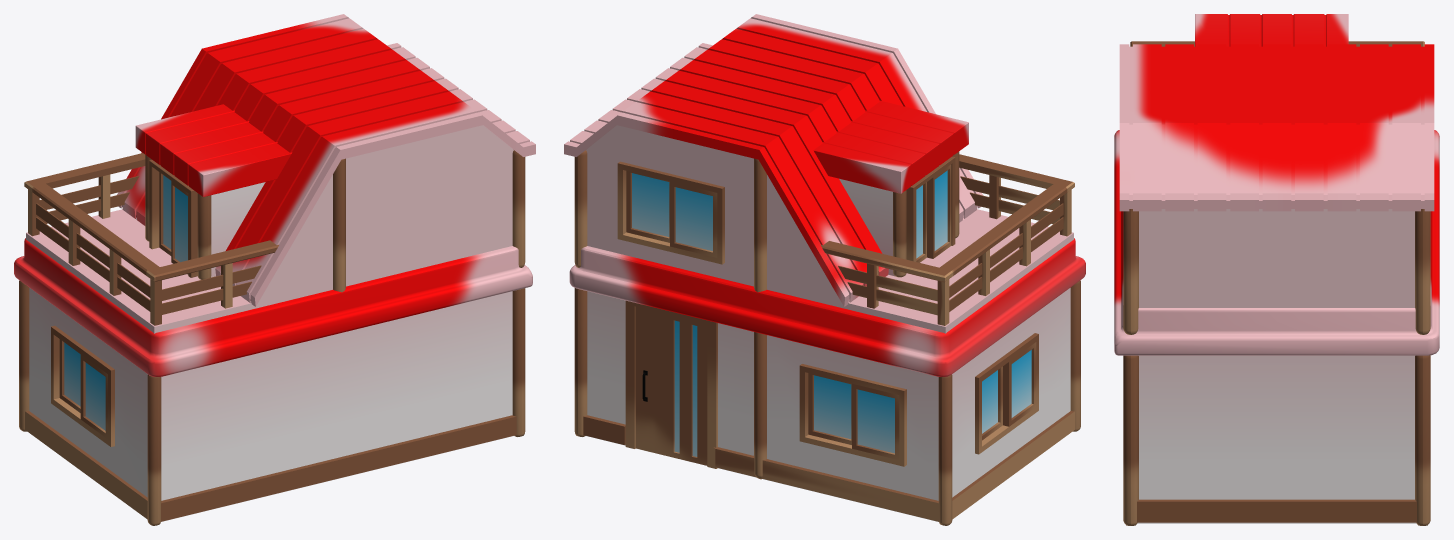
The model's file is house6.fbx.
3 renders of one model, left to right at view 1: azimuth 30°, elevation 25°; view 2: azimuth 150°, elevation 25°; view 3: azimuth 270°, elevation 25°, orthographic. The views are drawn at different scales.
Visible parts, largest first — view 1: Cube.021, Cube.051, Cube.052, Cube.039, Cube.045; view 2: Cube.021, Cube.022, Cube.053, Cube.054, Cube.037, Cube.023, Cube.051, Cube.052, Cube.039, Cube.045; view 3: Cube.021.
Part boxes in pixels (box(x1,y1,x2,y2)): Cube.021: box(14, 14, 535, 525); Cube.051: box(80, 354, 107, 438); Cube.052: box(171, 181, 188, 274); Cube.039: box(59, 339, 80, 412); Cube.045: box(159, 172, 171, 255); Cube.021: box(564, 14, 1085, 525); Cube.022: box(635, 306, 707, 465); Cube.053: box(852, 383, 899, 459); Cube.054: box(670, 181, 717, 257); Cube.037: box(808, 373, 851, 444); Cube.023: box(626, 171, 669, 242); Cube.051: box(1003, 342, 1036, 426); Cube.052: box(927, 164, 951, 258); Cube.039: box(982, 366, 1002, 440); Cube.045: box(916, 182, 926, 262); Cube.021: box(1114, 14, 1439, 525).
Size of the model in its own units: 523 by 433 by 337.
Materials: 5 (4 with a texture image).
